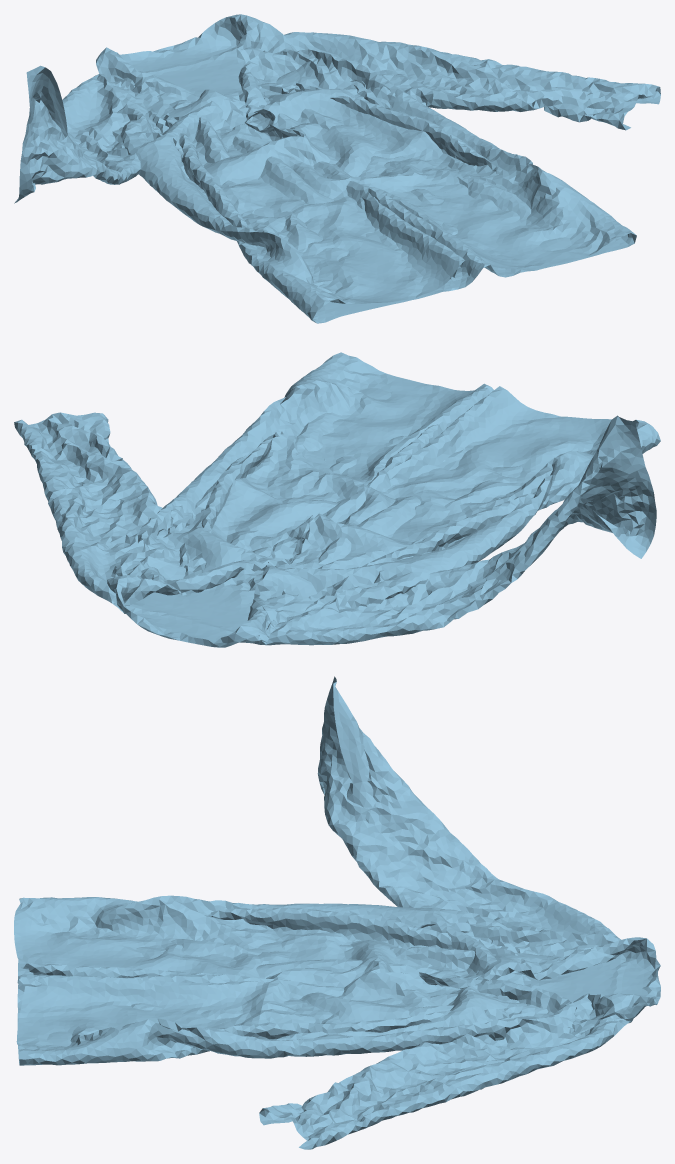
Rendered from frame_04.glb.
The picture shows the model from 3 angles, top to bottom: view 1: azimuth 30°, elevation 25°; view 2: azimuth 150°, elevation 25°; view 3: azimuth 270°, elevation 25°; orthographic projection.
Visible parts, largest first — view 1: frame_04.obj; view 2: frame_04.obj; view 3: frame_04.obj.
Part boxes in pixels (x1,y1,x2,y2): frame_04.obj: (14,14,660,323); frame_04.obj: (14,352,660,647); frame_04.obj: (14,676,660,1149).
Bounding box in the file's own units: 1.93 × 0.4999 × 1.68.
